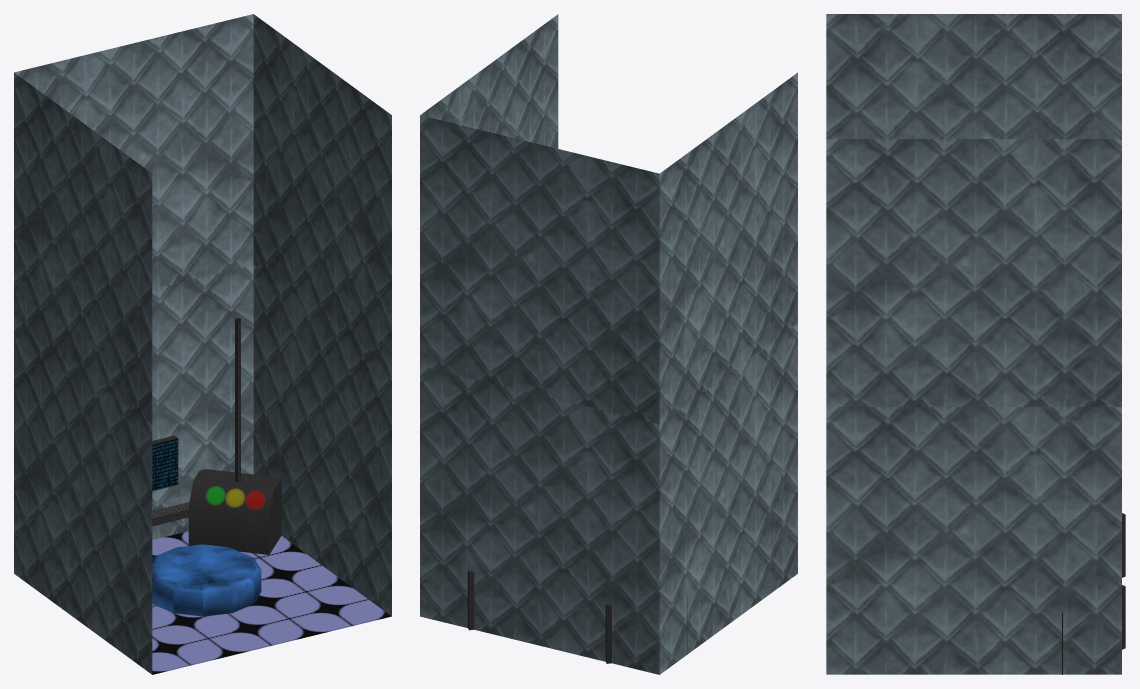
Rendered from Galeria.fbx.
3 views of the same model, side by side, from view 1: azimuth 30°, elevation 25°; view 2: azimuth 150°, elevation 25°; view 3: azimuth 270°, elevation 25° (orthographic). The views are drawn at different scales.
Visible parts, largest first — view 1: pPlane19, pPlane15, pPlane18, pPlane20, pPlane14, pPlane13, pPlane12, pCube25, pDisc2, pCube26, pCylinder16, pCylinder14; view 2: pPlane19, pPlane13, pPlane15, pPlane20, pPlane18, pCube25; view 3: pPlane18, pPlane14, pPlane20, pCube25.
Boxes of the visible parts, x1,y1,x2,y2 form: pPlane19: [14, 14, 253, 289]; pPlane15: [14, 323, 152, 674]; pPlane18: [253, 14, 391, 365]; pPlane20: [14, 72, 152, 423]; pPlane14: [253, 265, 391, 616]; pPlane13: [152, 264, 253, 539]; pPlane12: [152, 531, 391, 674]; pCube25: [41, 469, 281, 593]; pDisc2: [152, 544, 261, 616]; pCube26: [152, 435, 178, 490]; pCylinder16: [235, 318, 240, 482]; pCylinder14: [152, 502, 189, 526]; pPlane19: [420, 115, 659, 424]; pPlane13: [420, 366, 659, 674]; pPlane15: [659, 323, 797, 674]; pPlane20: [659, 72, 797, 423]; pPlane18: [420, 14, 558, 148]; pCube25: [467, 570, 687, 663]; pPlane18: [826, 139, 1121, 406]; pPlane14: [826, 407, 1121, 674]; pPlane20: [826, 14, 1121, 138]; pCube25: [1062, 513, 1125, 674].
Size of the model in its own units: 12.31 by 24.55 by 12.44.
